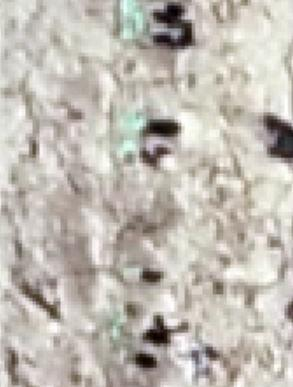cotton: (111, 311, 129, 346), (123, 21, 149, 39), (121, 114, 143, 135), (122, 144, 139, 165), (123, 266, 143, 282), (123, 2, 144, 17)
